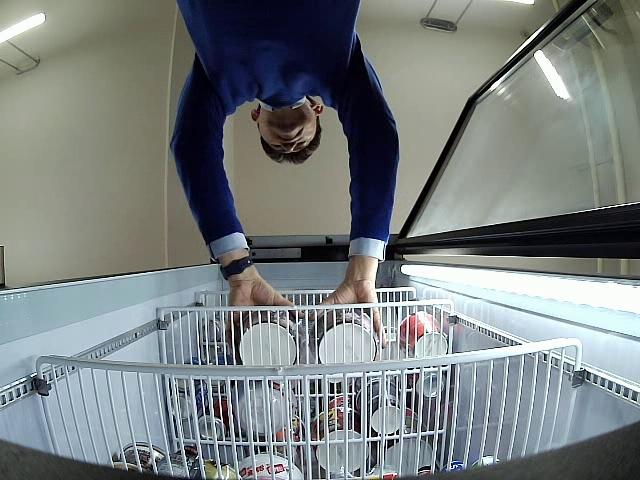00_hand: (309, 270, 388, 349), (227, 275, 307, 346)
07_buldak_L: (309, 308, 379, 363), (235, 311, 300, 366)
